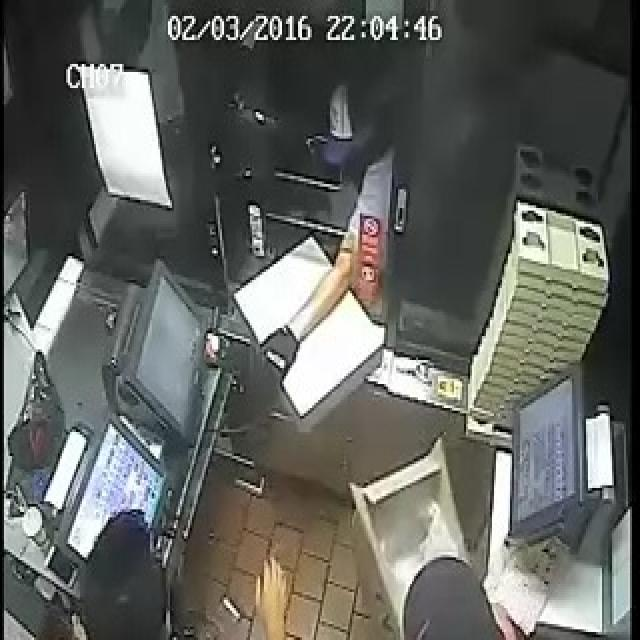thief: (316, 98, 418, 238)
